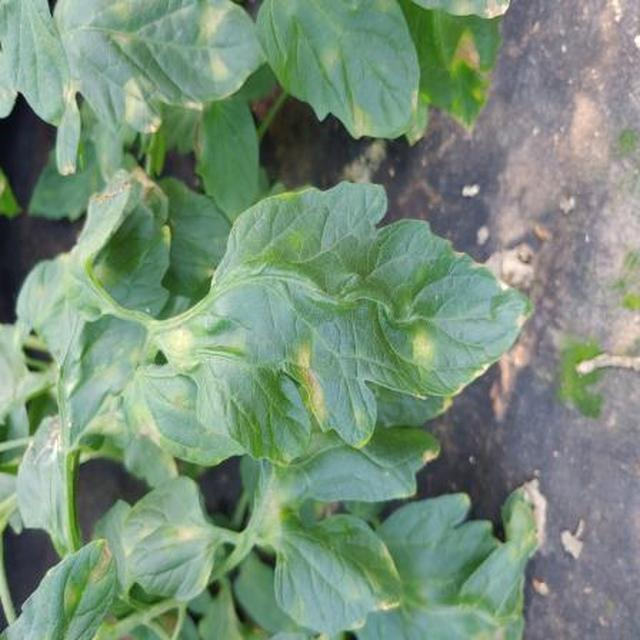Leaf Mold: (141, 97, 534, 640)
